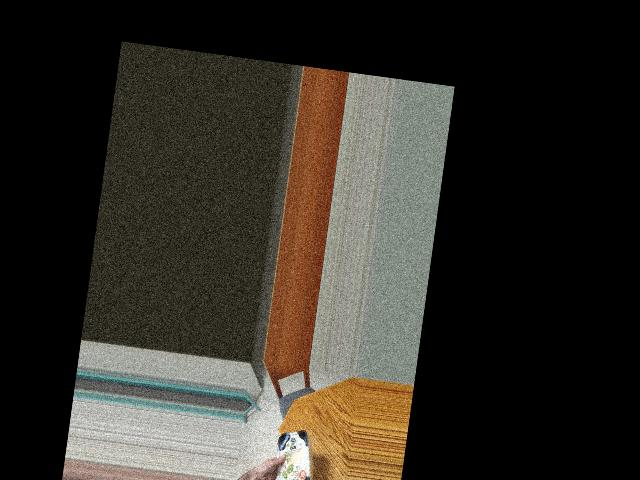cheese: (269, 425, 311, 480)
